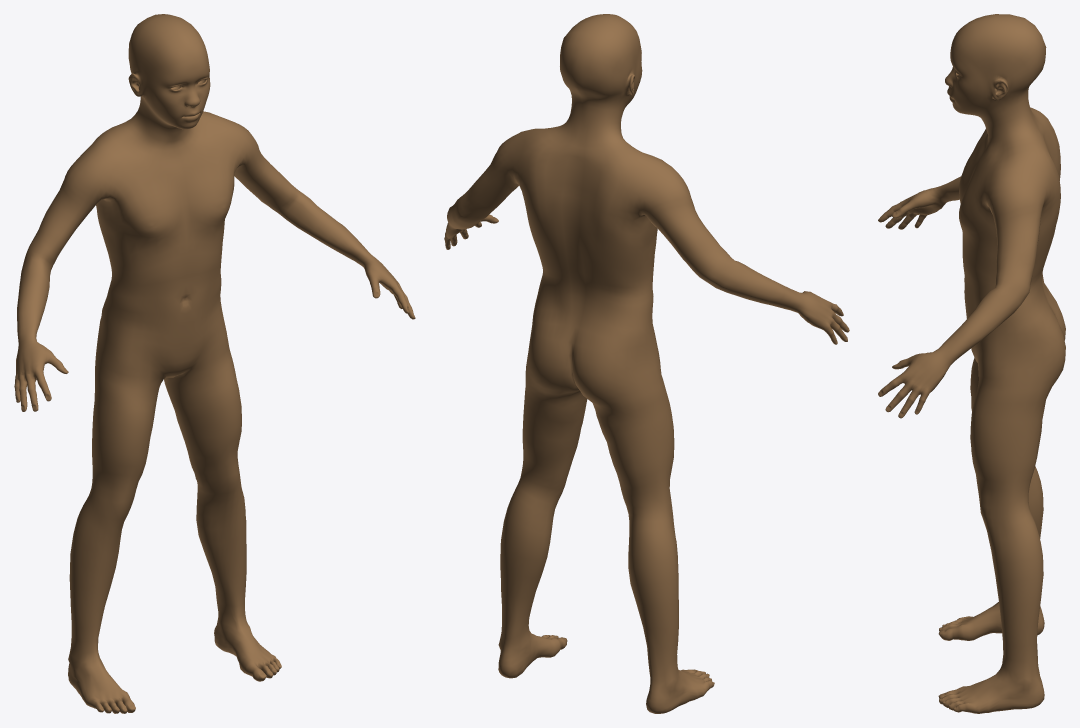
3 views of the same model, side by side, from view 1: azimuth 30°, elevation 25°; view 2: azimuth 150°, elevation 25°; view 3: azimuth 270°, elevation 25° (orthographic).
Parts seen in each view (by area): view 1: Human; view 2: Human; view 3: Human.
Boxes of the visible parts, x1=… form: Human: x1=14, y1=14, x2=415, y2=713; Human: x1=444, y1=14, x2=849, y2=713; Human: x1=878, y1=14, x2=1065, y2=713.
Bounding box in the file's own units: 1.07 × 1.72 × 0.4486.
